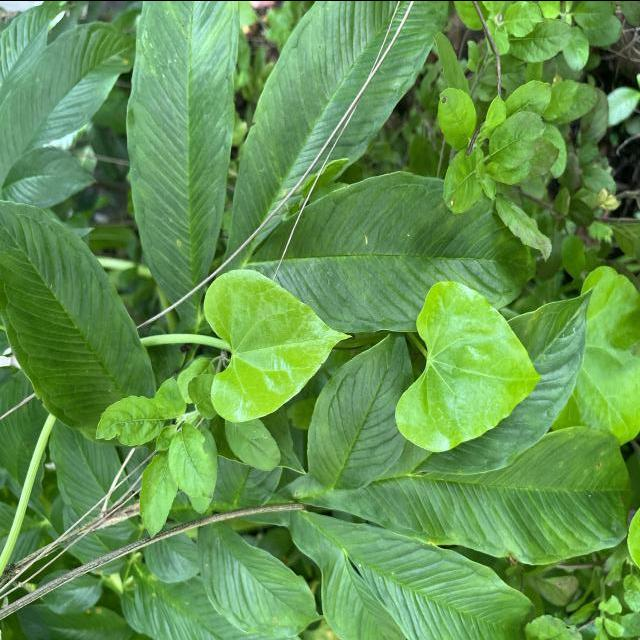Tinospora cordifolia: (392, 276, 544, 454), (200, 264, 356, 424)
